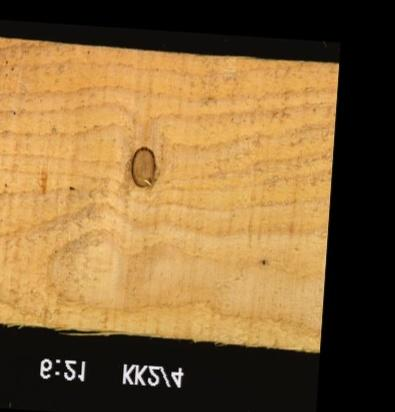dry_knot: (127, 145, 157, 189)
small_knot: (259, 257, 265, 266)
